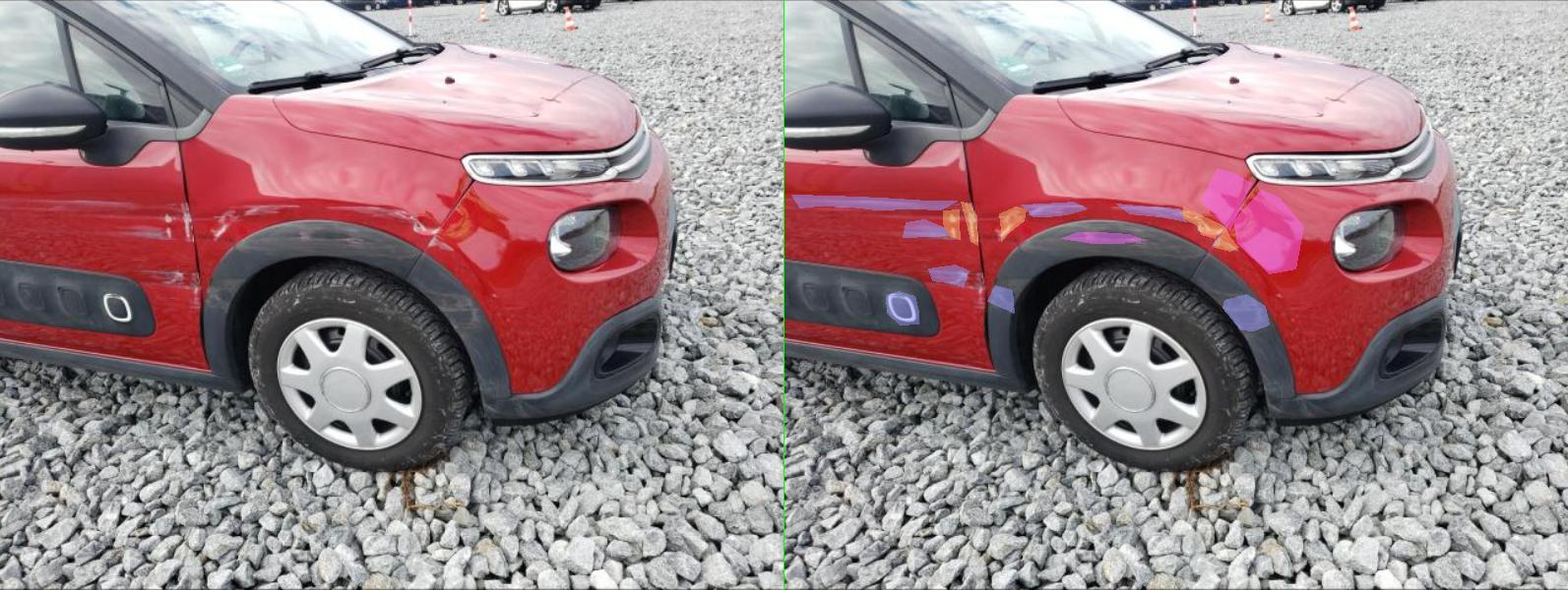Dent: (898, 190, 1038, 273), (833, 168, 934, 230), (554, 232, 719, 243)
Paint chip: (798, 206, 879, 238), (429, 206, 483, 241), (353, 202, 386, 245), (861, 227, 908, 251), (317, 209, 351, 239)
Scratch: (14, 195, 345, 209), (877, 294, 969, 330), (664, 204, 804, 221), (203, 291, 268, 324), (473, 202, 605, 216), (236, 219, 335, 237), (288, 265, 368, 286), (406, 285, 459, 313)
